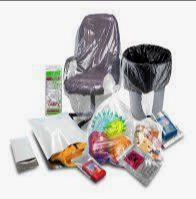Plastic: (64, 16, 128, 133), (122, 45, 172, 94), (41, 61, 76, 115)
